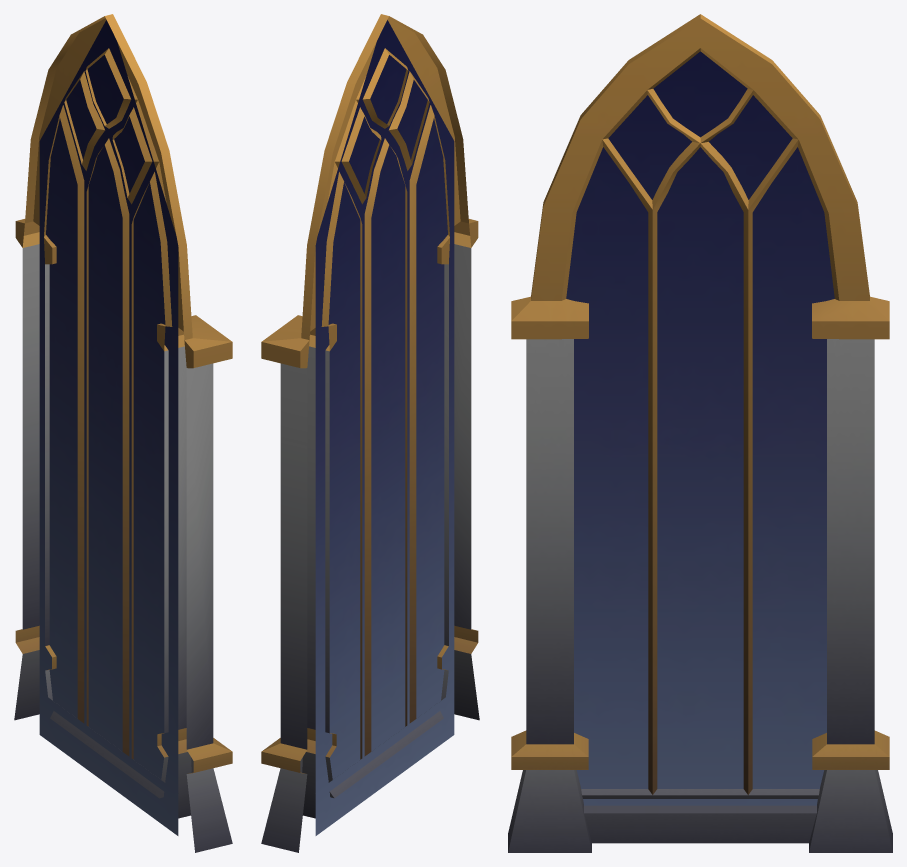
The model's file is Pantheon_Ventanal.fbx.
The picture shows the model from 3 angles, left to right: view 1: azimuth 30°, elevation 25°; view 2: azimuth 150°, elevation 25°; view 3: azimuth 270°, elevation 25°; orthographic projection. The views are drawn at different scales.
Parts seen in each view (by area): view 1: Pantheon_Ventanal; view 2: Pantheon_Ventanal; view 3: Pantheon_Ventanal.
Boxes of the visible parts, left/top/right/bottom form: Pantheon_Ventanal: left=14, top=14, right=232, bottom=852; Pantheon_Ventanal: left=261, top=14, right=479, bottom=852; Pantheon_Ventanal: left=508, top=14, right=892, bottom=852.
Size of the model in its own units: 2.33 by 43.98 by 18.72.
